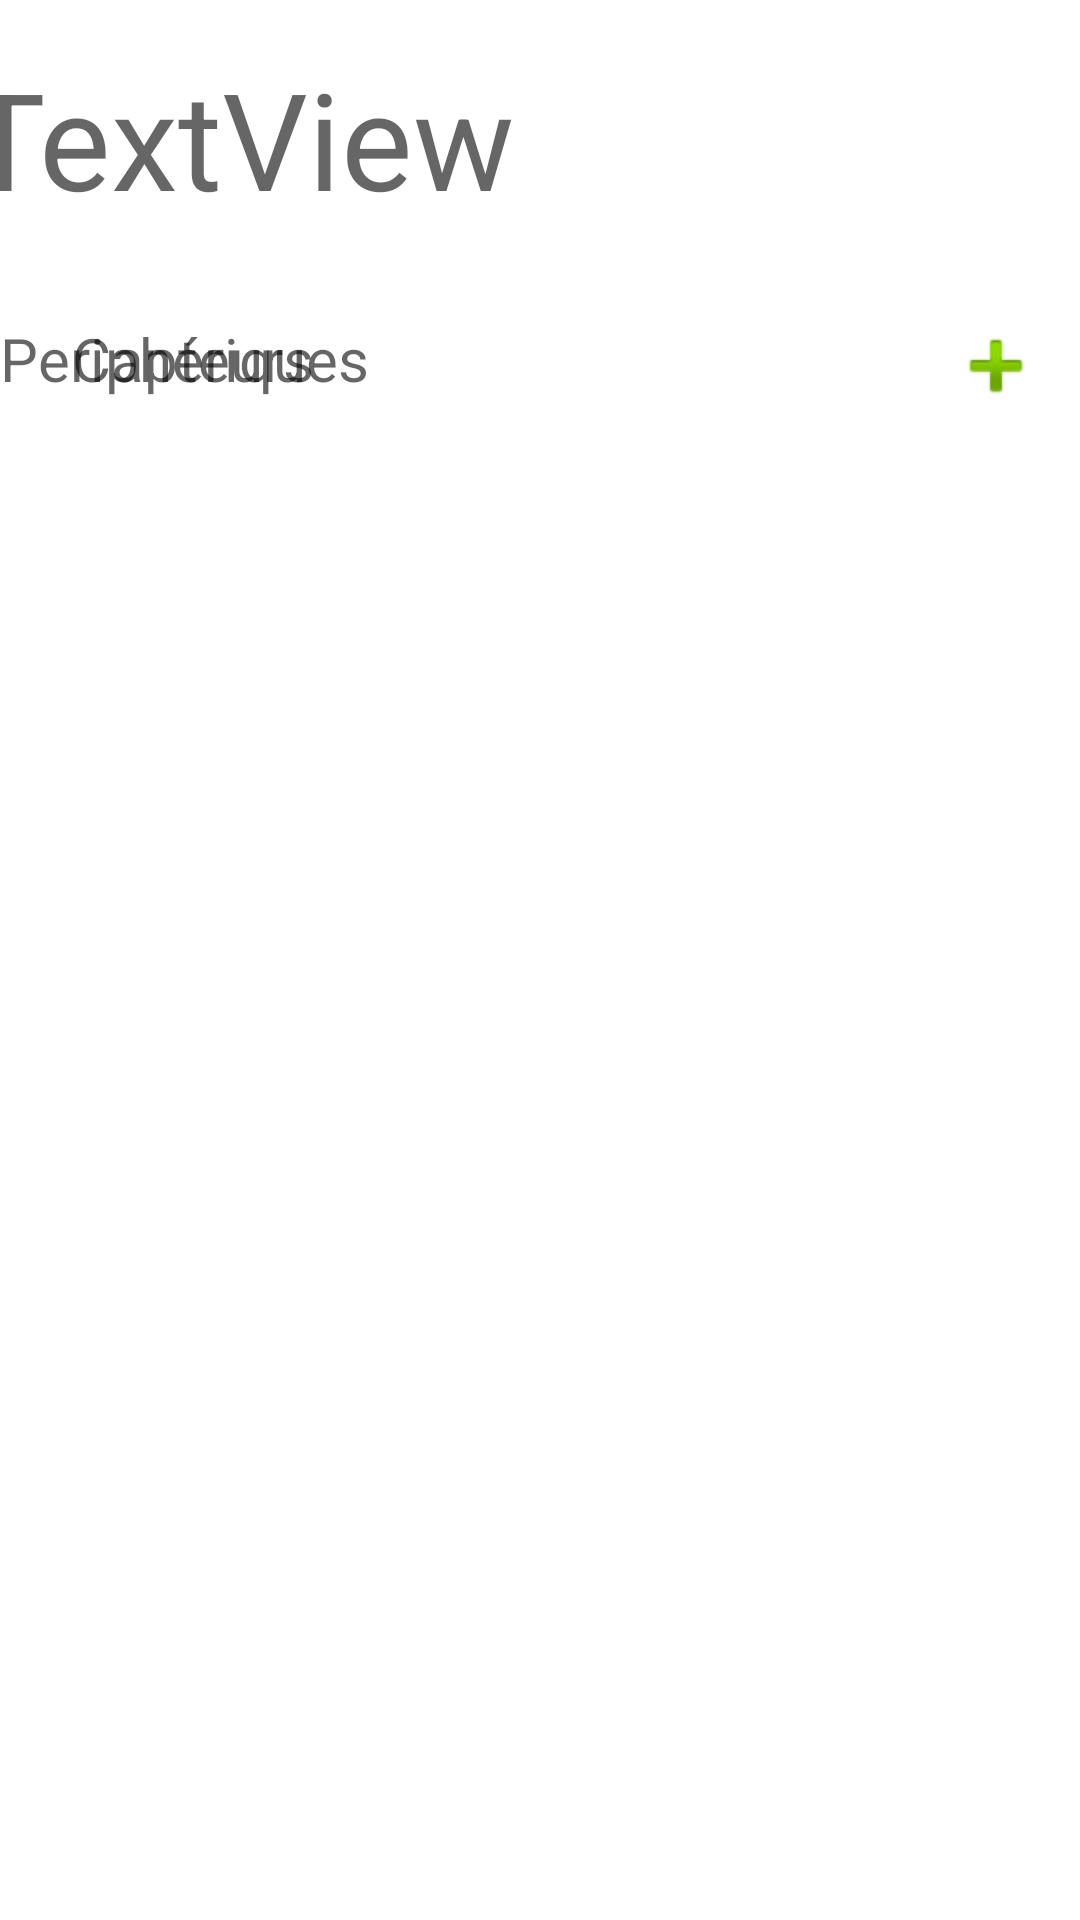

Icons on this 1080w x 1920h Android screen, each with the point to tap as (x,y):
add: (996,366)
